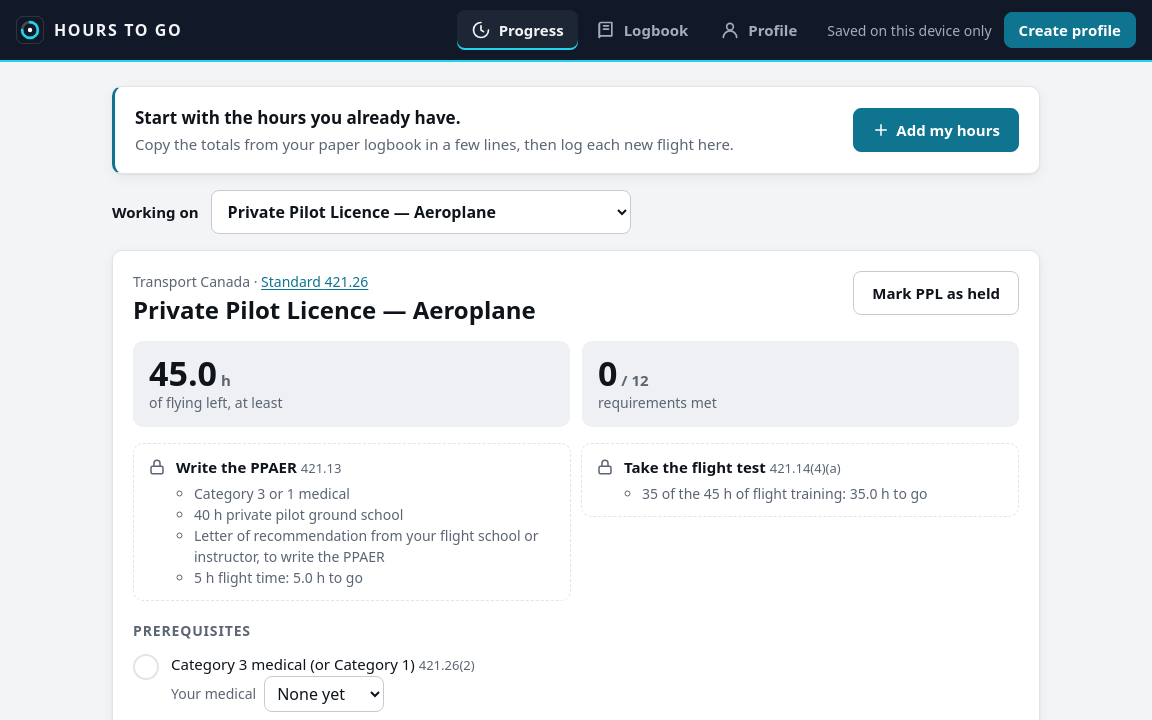
the app as a guest › logs an FTD session as ground time, not flight time
Click the button "Logbook" at (642, 30), box [582,10,702,50]
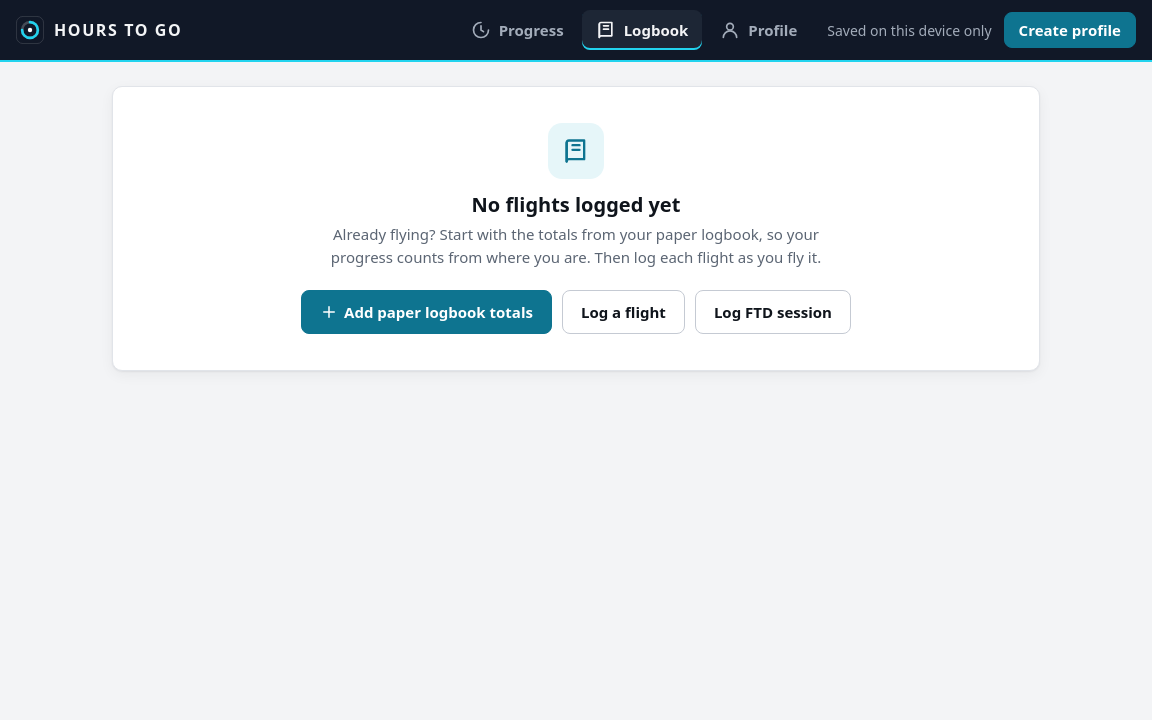
Click the button "Log FTD session" at (773, 312), box [695,290,851,334]
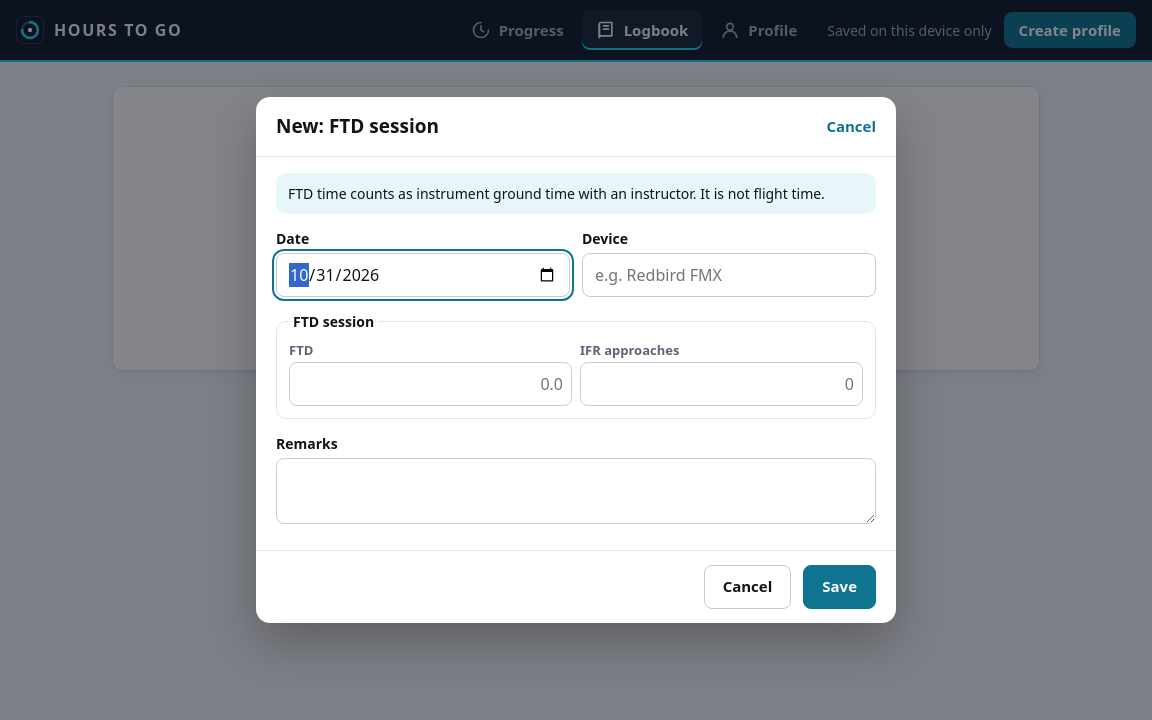
Type "1.5" into the field named "FTD session FTD" at (430, 384), box [289,362,572,406]
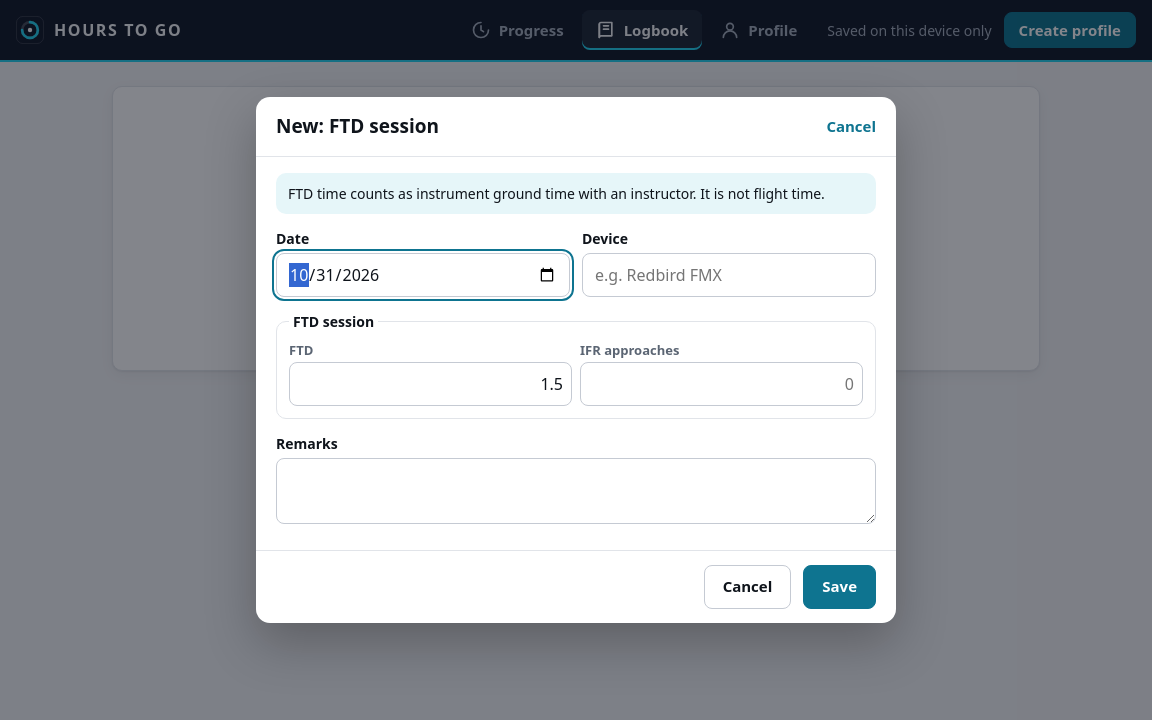
Click the button "Save" at (840, 587), box [803,565,876,609]
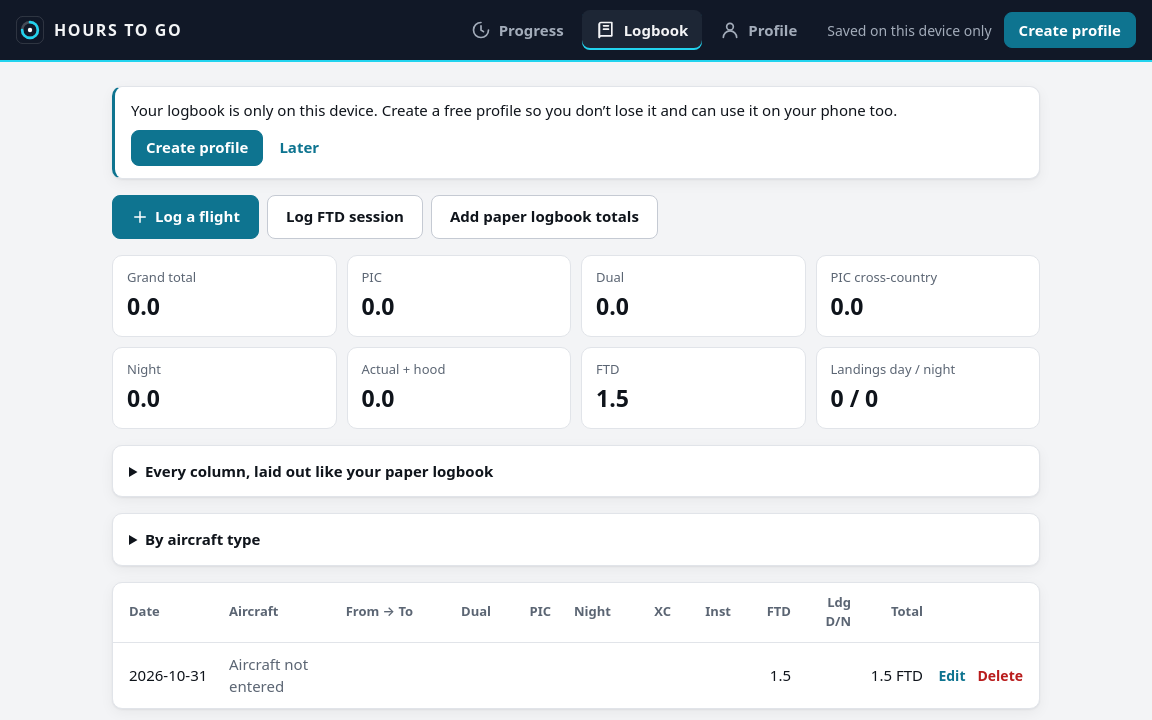
Check: the dialog is gone
Check: the list named "Logbook entries" shows "1.5 FTD", box [871,665,923,685]
Check: the text "0.0" below "Grand total" is shown, box [127,290,160,322]
